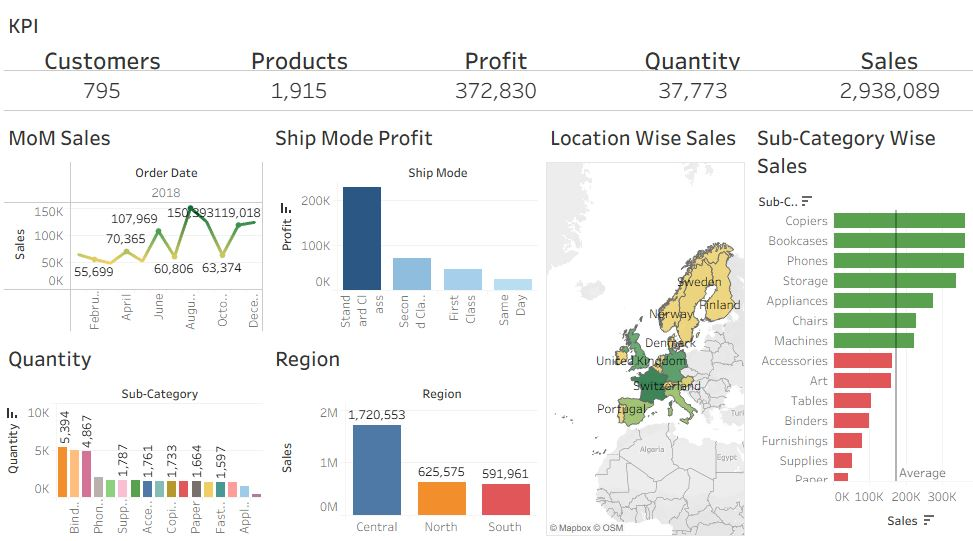

Layout of this report page (visuals, bound fields, positions):
{"tool":"tableau","page":{"name":"Dashboard 1","canvas":[1000,1000],"units":"permille","ordinal":0},"visuals":[{"type":"worksheet","title":"KPI","mark":"Automatic","box":[7.3,14.5,902.7,202.5]},{"type":"legend","title":"Sub-category wise sales","param":"[federated.1pfywqj0hgppg21bfsynk0ubdvzd].[usr:Calculation_0506890908987392:nk:1]","box":[910,14.5,82.7,119.4]},{"type":"legend","title":"Region Wise sales","param":"[federated.1pfywqj0hgppg21bfsynk0ubdvzd].[none:Region:nk]","box":[910,133.8,82.7,155.5]},{"type":"worksheet","title":"MoM Sales","mark":"Automatic","rows":["Sales"],"cols":["Order Date","Order Date"],"box":[7.3,217,242.7,400.5]},{"type":"worksheet","title":"Ship Mode wise Profit","mark":"Automatic","rows":["Profit"],"cols":["Ship Mode"],"box":[250,217,250,400.5]},{"type":"worksheet","title":"location wise sales","mark":"Automatic","box":[500,217,188.2,768.5]},{"type":"worksheet","title":"Sub-category wise sales","mark":"Automatic","rows":["Sub-Category"],"cols":["Sales"],"box":[688.2,217,221.8,768.5]},{"type":"legend","title":"Ship Mode wise Profit","param":"[federated.1pfywqj0hgppg21bfsynk0ubdvzd].[sum:Profit:qk]","box":[910,289.3,82.7,117.5]},{"type":"legend","title":"Sub-Category wise Quantity","param":"[federated.1pfywqj0hgppg21bfsynk0ubdvzd].[none:Sub-Category:nk]","box":[910,406.9,82.7,461.1]},{"type":"worksheet","title":"Sub-Category wise Quantity","mark":"Automatic","rows":["Quantity"],"cols":["Sub-Category"],"box":[7.3,617.5,242.7,368]},{"type":"worksheet","title":"Region Wise sales","mark":"Automatic","rows":["Sales"],"cols":["Region"],"box":[250,617.5,250,368]},{"type":"legend","title":"location wise sales","param":"[federated.1pfywqj0hgppg21bfsynk0ubdvzd].[sum:Sales:qk]","box":[910,868,82.7,117.5]}]}

Visuals, with their boxes on the dashboard's canvas, which has no fixed pixel size, in thousandths of its width and height (x1, y1, x2, y2). These are canvas units, not pixel positions in the 973x541 screenshot, which may show the page scaled, cropped or inside an application window:
"KPI" worksheet: {"left": 7, "top": 14, "right": 910, "bottom": 217}
"Sub-category wise sales" legend: {"left": 910, "top": 14, "right": 993, "bottom": 134}
"Region Wise sales" legend: {"left": 910, "top": 134, "right": 993, "bottom": 289}
"MoM Sales" worksheet: {"left": 7, "top": 217, "right": 250, "bottom": 618}
"Ship Mode wise Profit" worksheet: {"left": 250, "top": 217, "right": 500, "bottom": 618}
"location wise sales" worksheet: {"left": 500, "top": 217, "right": 688, "bottom": 986}
"Sub-category wise sales" worksheet: {"left": 688, "top": 217, "right": 910, "bottom": 986}
"Ship Mode wise Profit" legend: {"left": 910, "top": 289, "right": 993, "bottom": 407}
"Sub-Category wise Quantity" legend: {"left": 910, "top": 407, "right": 993, "bottom": 868}
"Sub-Category wise Quantity" worksheet: {"left": 7, "top": 618, "right": 250, "bottom": 986}
"Region Wise sales" worksheet: {"left": 250, "top": 618, "right": 500, "bottom": 986}
"location wise sales" legend: {"left": 910, "top": 868, "right": 993, "bottom": 986}
